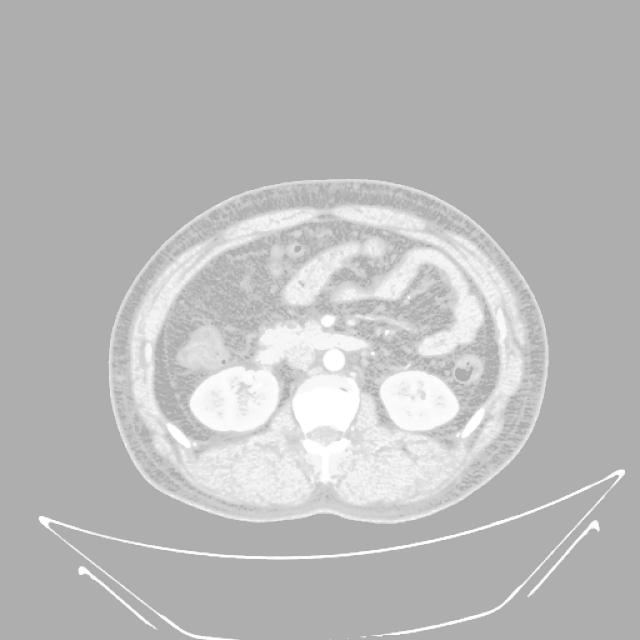NORMAL: (97, 173, 574, 512)
